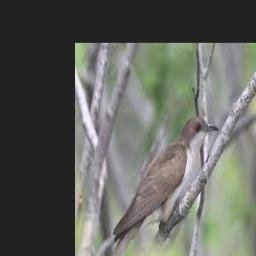Cuckoo: (95, 117, 220, 256)
